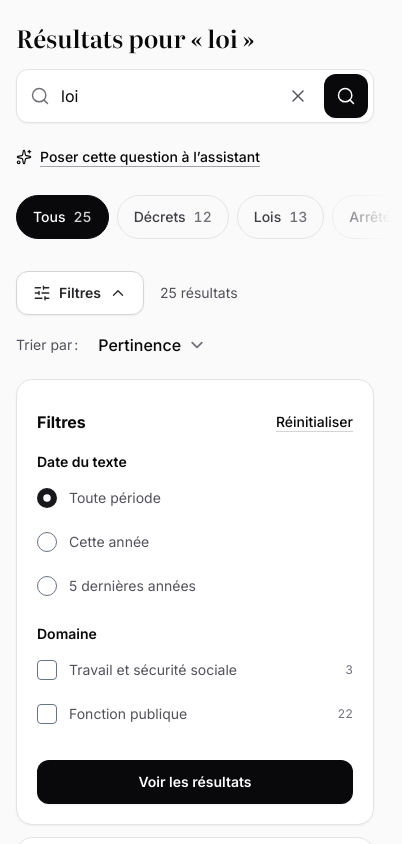
it: /search : la colonne de filtres › ouverte par son ancre avant l’hydratation, elle se referme ensuite au bouton
Click the link with test id "search-filters-toggle" at point(80, 293), box top-left (16, 271), bottom-right (144, 315)
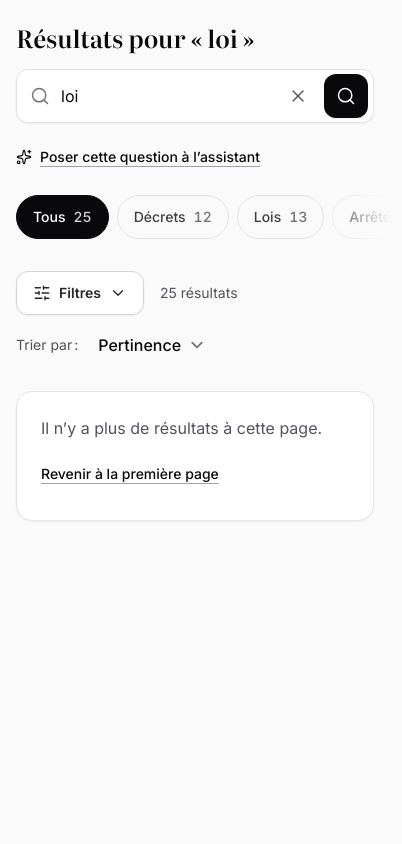
Check: the link with test id "search-filters-toggle" is collapsed, box top-left (16, 271), bottom-right (144, 315)
